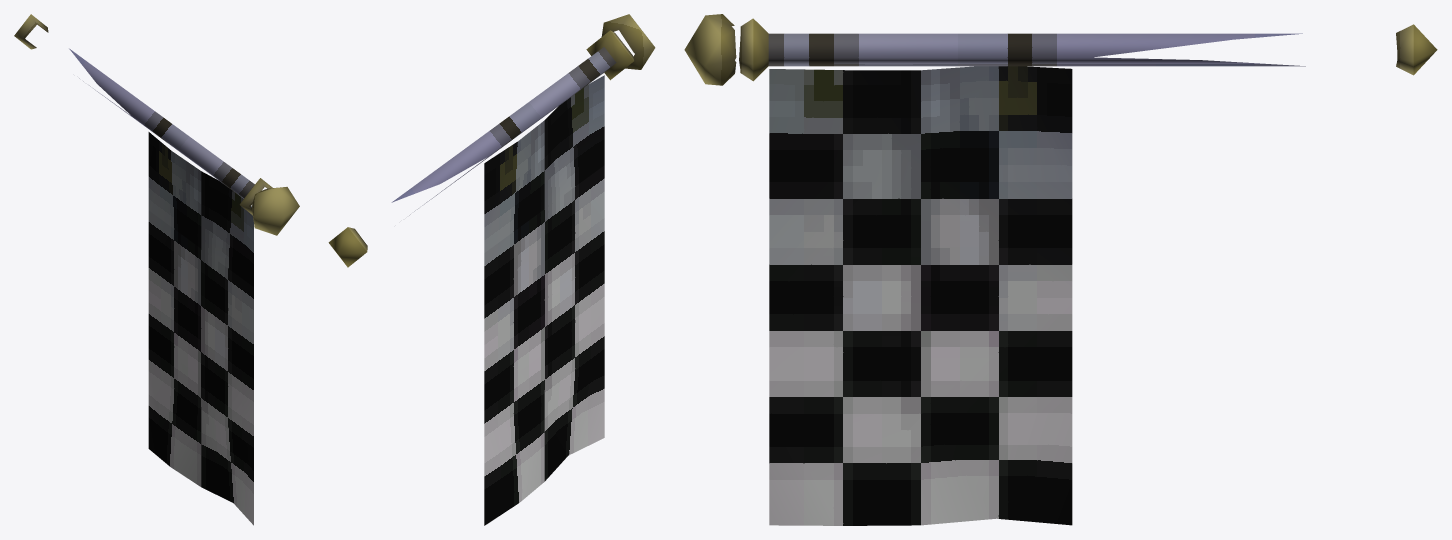
Rendered from lakitu-flag.glb.
The picture shows the model from 3 angles, left to right: view 1: azimuth 30°, elevation 25°; view 2: azimuth 150°, elevation 25°; view 3: azimuth 270°, elevation 25°; orthographic projection. The views are drawn at different scales.
Visible parts, largest first — view 1: polygon0, polygon1; view 2: polygon0, polygon1; view 3: polygon0, polygon1.
Boxes of the visible parts, x1,y1,x2,y2 form: polygon0: (148, 132, 253, 525); polygon1: (14, 14, 299, 235); polygon0: (484, 75, 604, 525); polygon1: (328, 14, 655, 267); polygon0: (769, 66, 1072, 525); polygon1: (684, 14, 1437, 85).
Bounding box in the file's own units: 0.4542 × 3.36 × 4.5.
2 materials, 2 textured.
